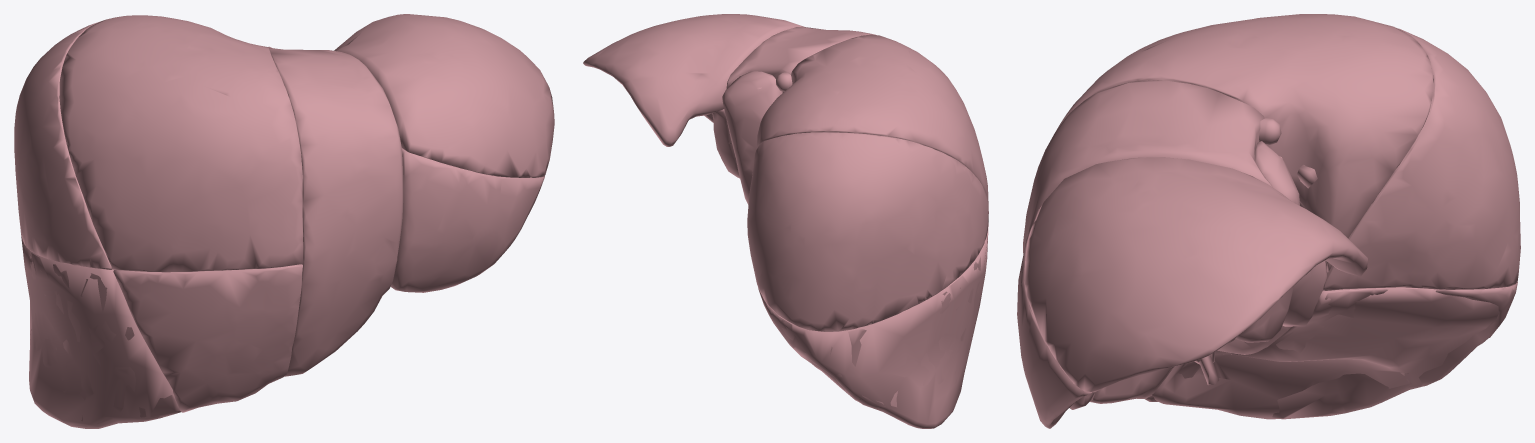
The model's file is liver.glb.
The picture shows the model from 3 angles, left to right: view 1: azimuth 30°, elevation 25°; view 2: azimuth 150°, elevation 25°; view 3: azimuth 270°, elevation 25°; orthographic projection. The views are drawn at different scales.
Parts seen in each view (by area): view 1: liver; view 2: liver; view 3: liver.
Boxes of the visible parts, <box> form: liver: <box>14,14,554,428</box>; liver: <box>583,14,988,428</box>; liver: <box>1017,14,1520,428</box>.
Bounding box in the file's own units: 0.1217 × 0.0903 × 0.0925.
